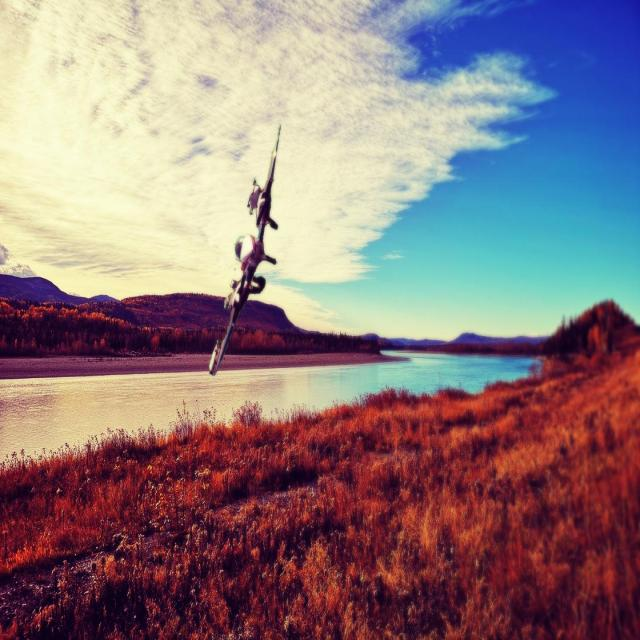airplane: (208, 123, 282, 375)
